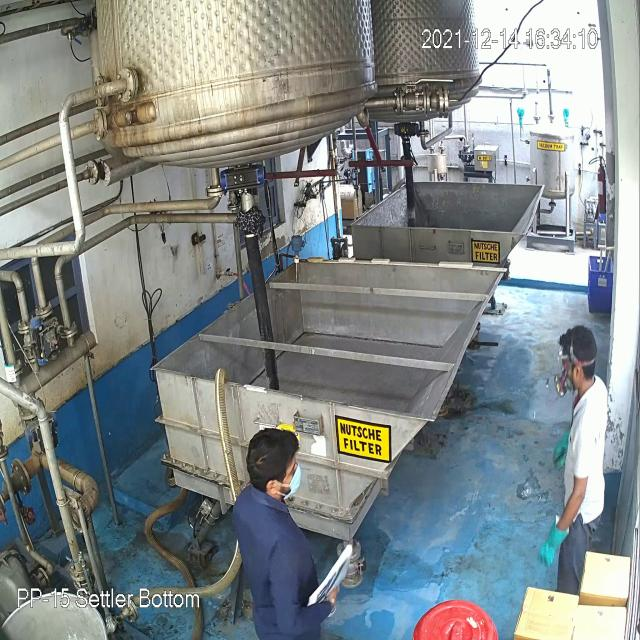gloves: (536, 511, 572, 572)
